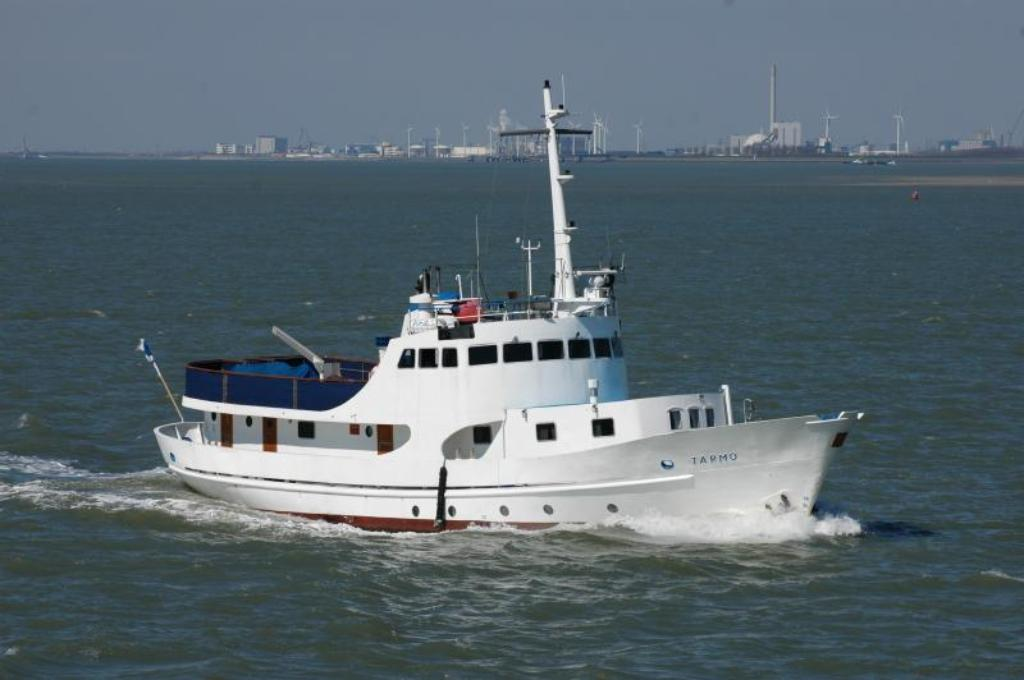PassengerShip: (134, 74, 874, 552)
